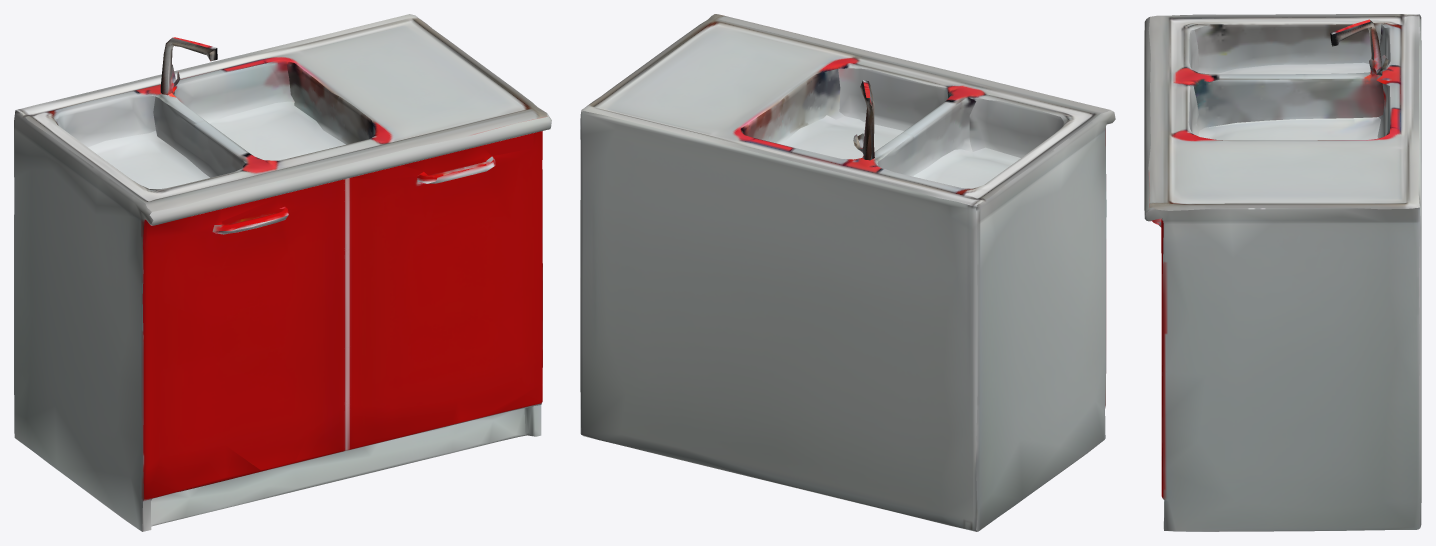
Rendered from Evier3_3D_textured.glb.
The picture shows the model from 3 angles, left to right: view 1: azimuth 30°, elevation 25°; view 2: azimuth 150°, elevation 25°; view 3: azimuth 270°, elevation 25°; orthographic projection.
Visible parts, largest first — view 1: temp_mesh.ply; view 2: temp_mesh.ply; view 3: temp_mesh.ply.
Boxes of the visible parts, x1,y1,x2,y2 form: temp_mesh.ply: (14, 14, 551, 531); temp_mesh.ply: (580, 14, 1115, 531); temp_mesh.ply: (1144, 14, 1421, 531).
Bounding box in the file's own units: 1.97 × 1.83 × 1.19.
Materials: 1 (1 with a texture image).
